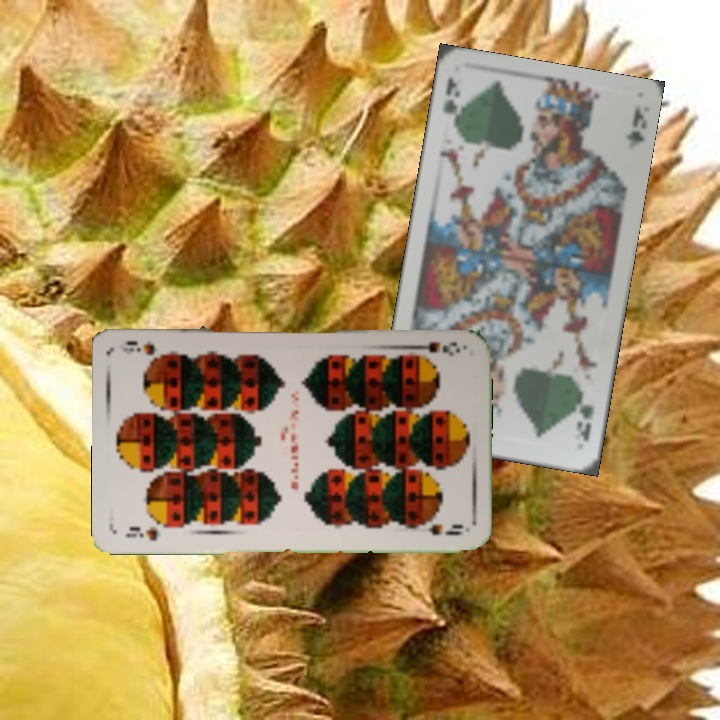GK: (438, 72, 464, 131), (573, 400, 598, 445)
S9: (407, 338, 466, 359), (122, 522, 160, 543)
